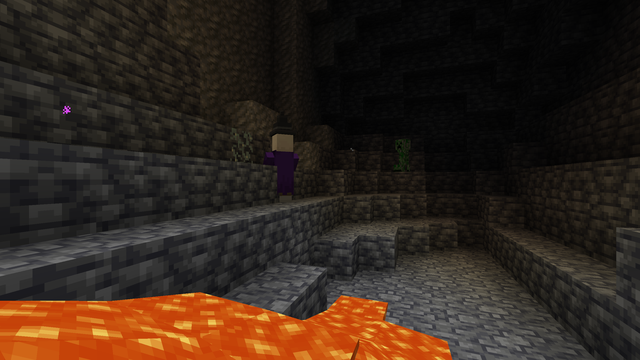creepers: (396, 137, 409, 164)
sorcieres: (267, 130, 295, 202)
